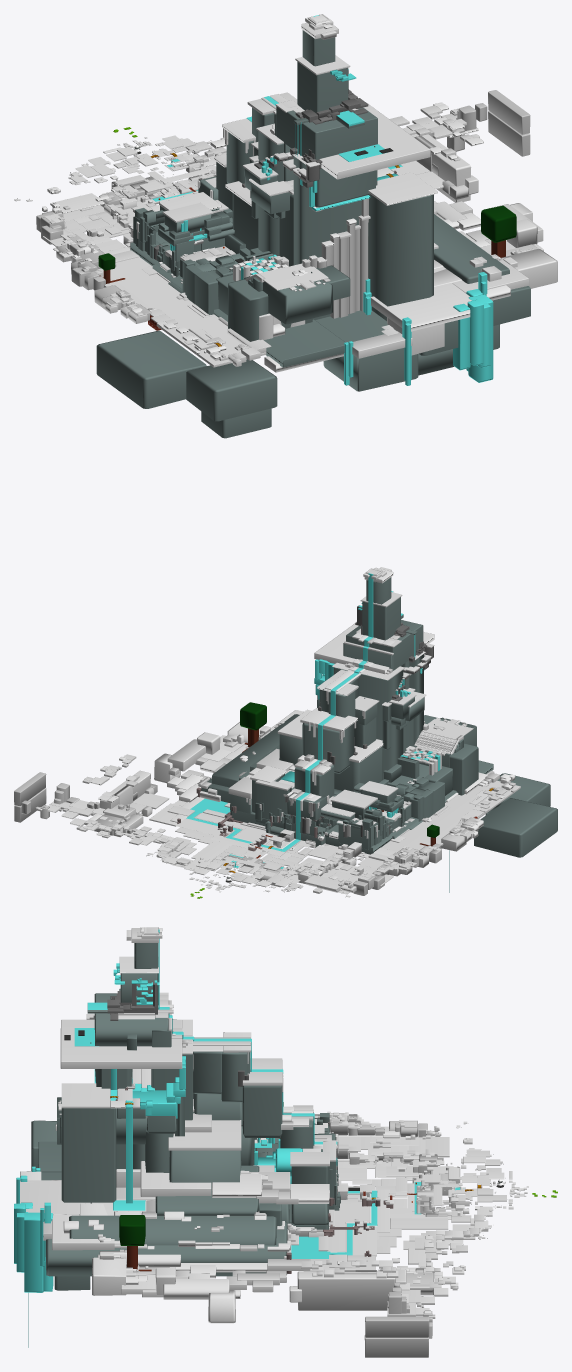
The model's file is Level7NoCollidersCombinedFinal.fbx.
The picture shows the model from 3 angles, top to bottom: view 1: azimuth 30°, elevation 25°; view 2: azimuth 150°, elevation 25°; view 3: azimuth 270°, elevation 25°; orthographic projection. The views are drawn at different scales.
Visible parts, largest first — view 1: Block26078; view 2: Block26078; view 3: Block26078.
Part boxes in pixels (x1=…): Block26078: x1=14, y1=14, x2=557, y2=438; Block26078: x1=14, y1=567, x2=557, y2=898; Block26078: x1=14, y1=927, x2=557, y2=1357.
Size of the model in its own units: 487 by 404 by 460.
